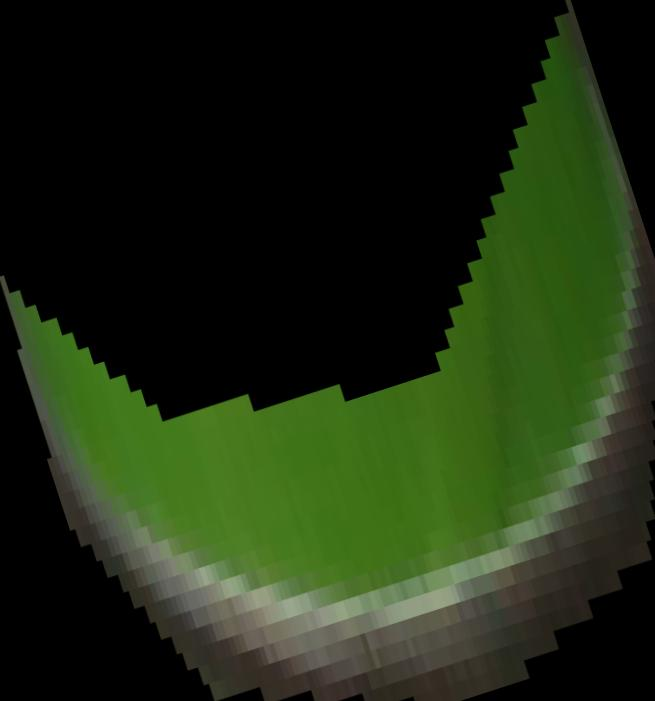bottom: (1, 1, 655, 700)
